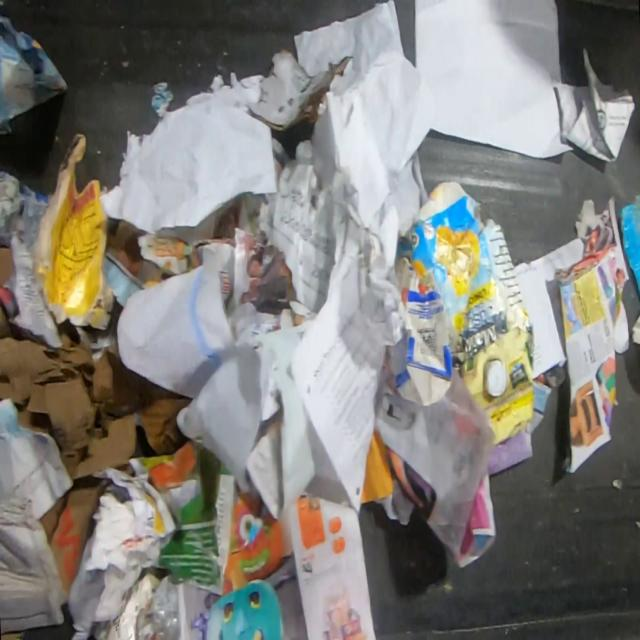cardboard: (0, 303, 193, 602), (248, 0, 406, 134), (458, 215, 536, 447), (29, 130, 117, 332), (386, 255, 454, 407), (418, 179, 466, 221)
rigid_plastic: (620, 193, 639, 298)
soft_plastic: (136, 572, 180, 640)
